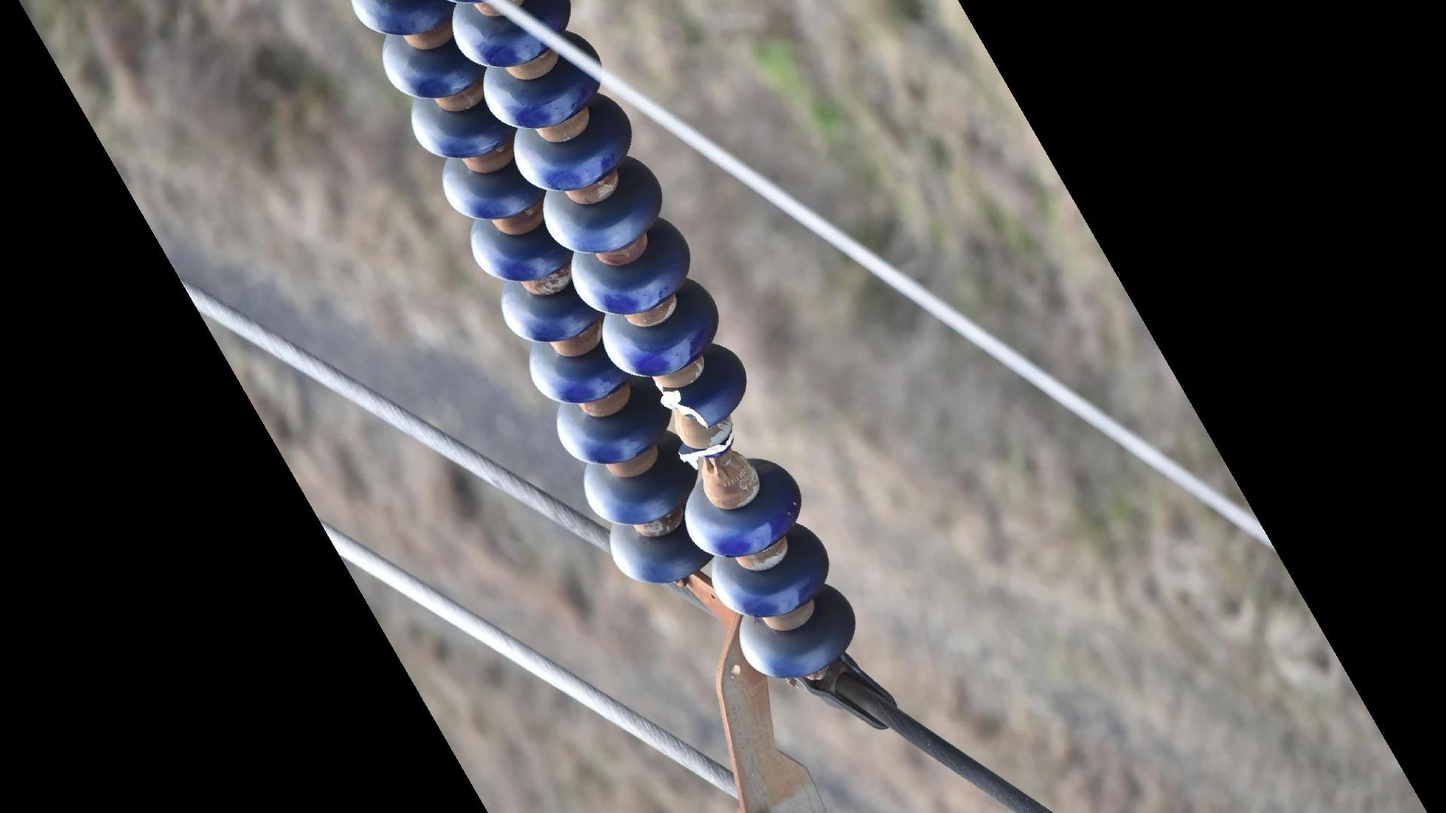insulator: (352, 1, 860, 685)
insulator_breakage: (648, 379, 720, 434), (667, 428, 749, 473)
